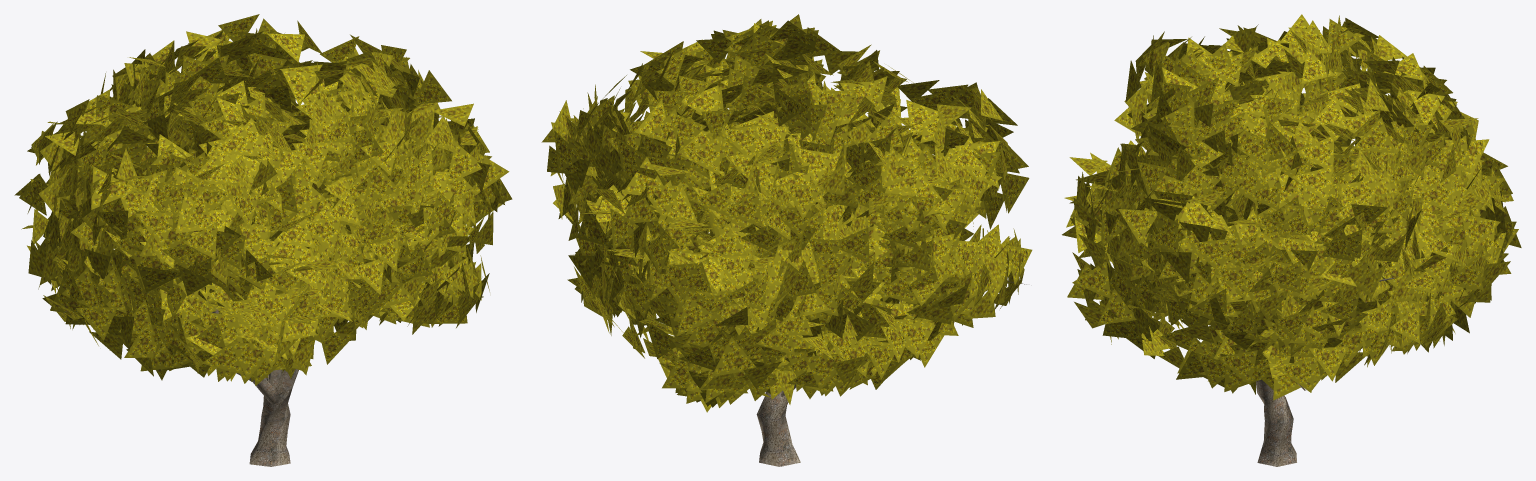
Rendered from Ginkgo_Biloba_Autumn_Adult.glb.
3 renders of one model, left to right at view 1: azimuth 30°, elevation 25°; view 2: azimuth 150°, elevation 25°; view 3: azimuth 270°, elevation 25°, orthographic.
Visible parts, largest first — view 1: Ginkgo_Biloba_Autumn_Adult__LOD3; view 2: Ginkgo_Biloba_Autumn_Adult__LOD3; view 3: Ginkgo_Biloba_Autumn_Adult__LOD3.
Part boxes in pixels (x1,y1,x2,y2): Ginkgo_Biloba_Autumn_Adult__LOD3: [14, 14, 512, 466]; Ginkgo_Biloba_Autumn_Adult__LOD3: [541, 14, 1032, 466]; Ginkgo_Biloba_Autumn_Adult__LOD3: [1062, 14, 1521, 466].
Bounding box in the file's own units: 34.5 × 29.59 × 30.93.
Materials: 2 (2 with a texture image).
